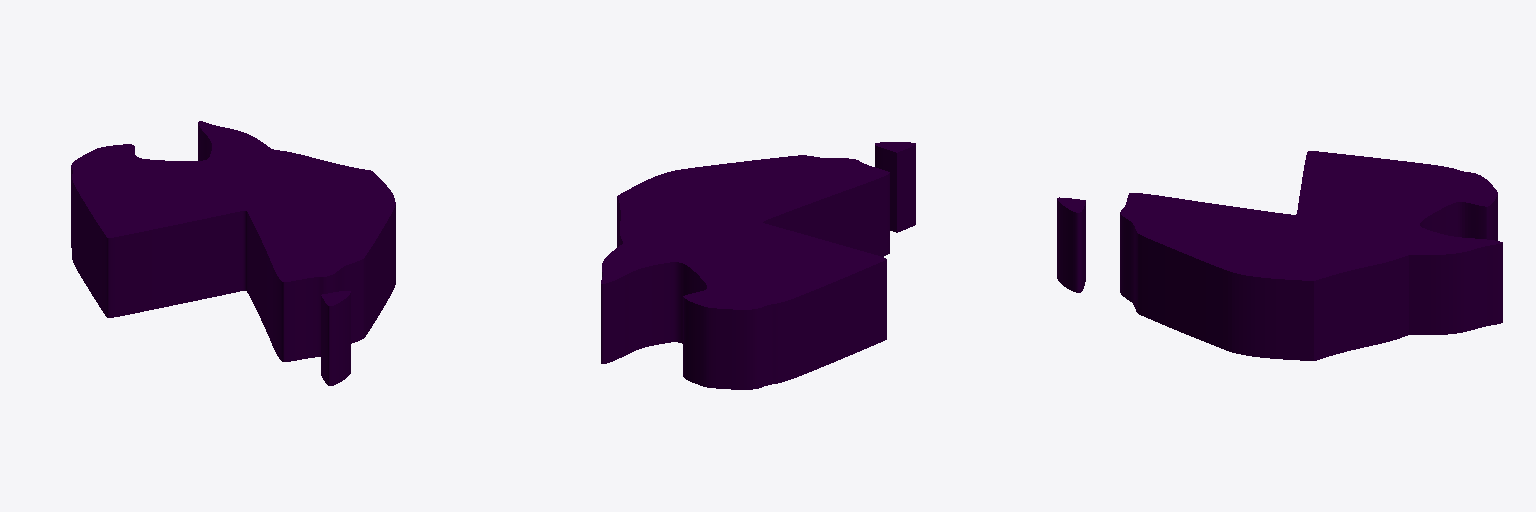
3 renders of one model, left to right at view 1: azimuth 30°, elevation 25°; view 2: azimuth 150°, elevation 25°; view 3: azimuth 270°, elevation 25°, orthographic.
Parts seen in each view (by area): view 1: Curve.046_path4286; view 2: Curve.046_path4286; view 3: Curve.046_path4286.
Boxes of the visible parts, <box> form: Curve.046_path4286: <box>71,121,395,385</box>; Curve.046_path4286: <box>601,142,915,389</box>; Curve.046_path4286: <box>1057,151,1502,360</box>.
Bounding box in the file's own units: 0.3494 × 0.1 × 0.5035.